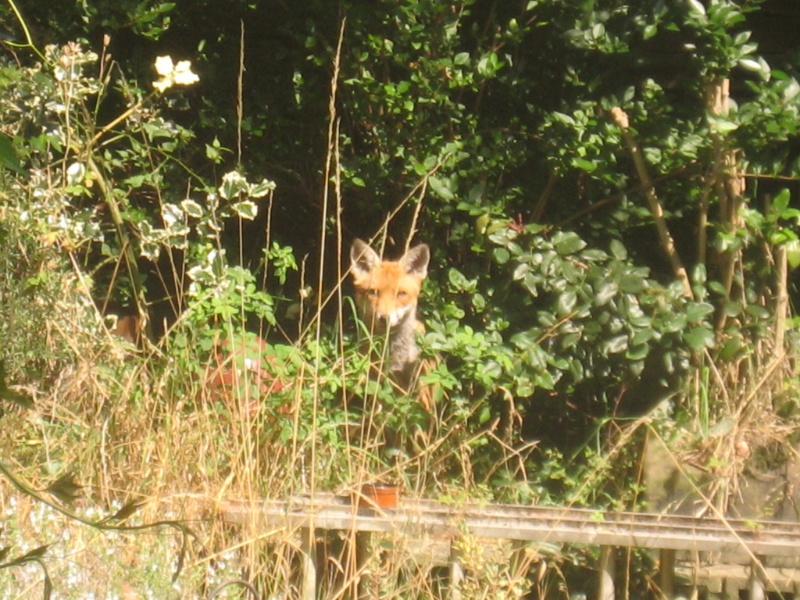fox: (303, 236, 436, 460)
